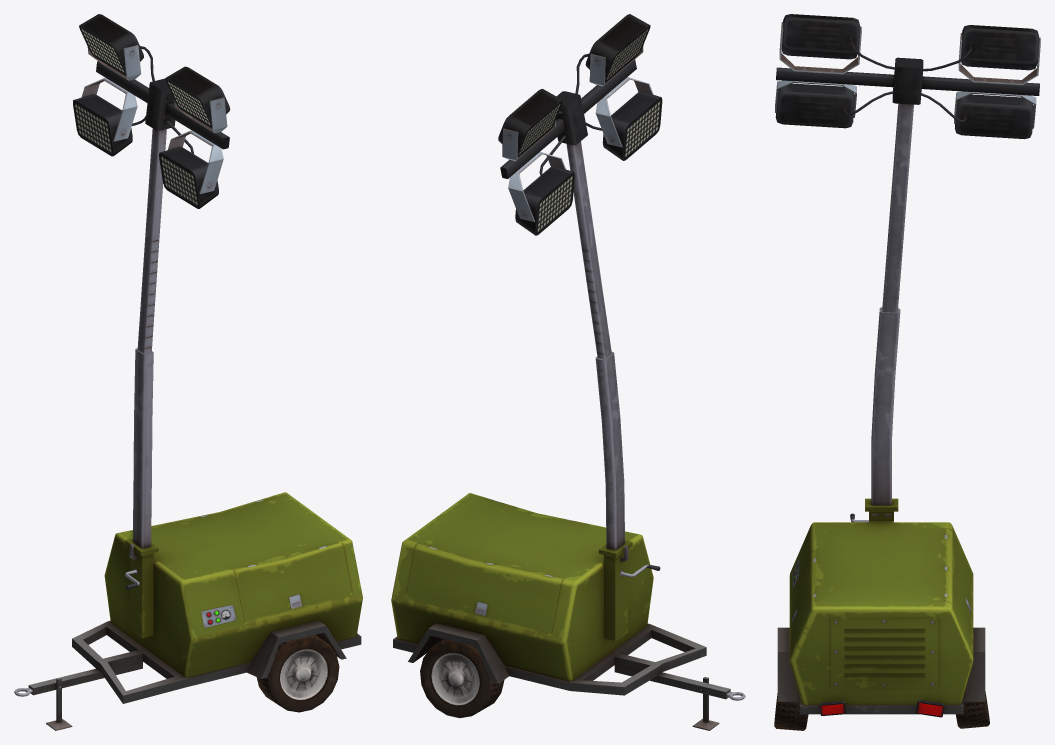
Rendered from TrailerLight01_1.FBX.
3 views of the same model, side by side, from view 1: azimuth 30°, elevation 25°; view 2: azimuth 150°, elevation 25°; view 3: azimuth 270°, elevation 25° (orthographic). The views are drawn at different scales.
Visible parts, largest first — view 1: TrailerLight01_1; view 2: TrailerLight01_1; view 3: TrailerLight01_1.
Boxes of the visible parts, x1,y1,x2,y2 form: TrailerLight01_1: [14, 14, 362, 730]; TrailerLight01_1: [391, 14, 745, 730]; TrailerLight01_1: [774, 14, 1040, 730].
Size of what is drawn, in the model's own units: 3.18 by 6.26 by 2.27.
